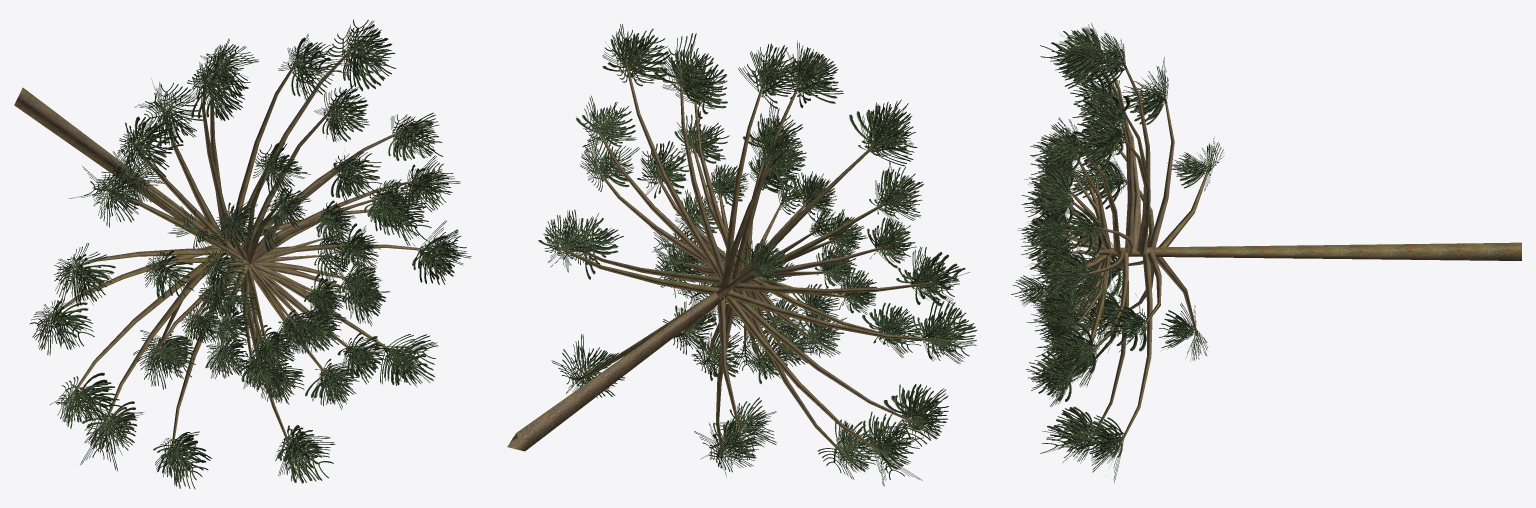
The model's file is nanyousugi_under3000.fbx.
The picture shows the model from 3 angles, left to right: view 1: azimuth 30°, elevation 25°; view 2: azimuth 150°, elevation 25°; view 3: azimuth 270°, elevation 25°; orthographic projection. The views are drawn at different scales.
Visible parts, largest first — view 1: LOD0; view 2: LOD0; view 3: LOD0.
Part boxes in pixels (x1,y1,x2,y2): LOD0: (14,19,471,488); LOD0: (507,24,977,486); LOD0: (1011,23,1521,483).
Bounding box in the file's own units: 67.11 × 67.67 × 75.51.
